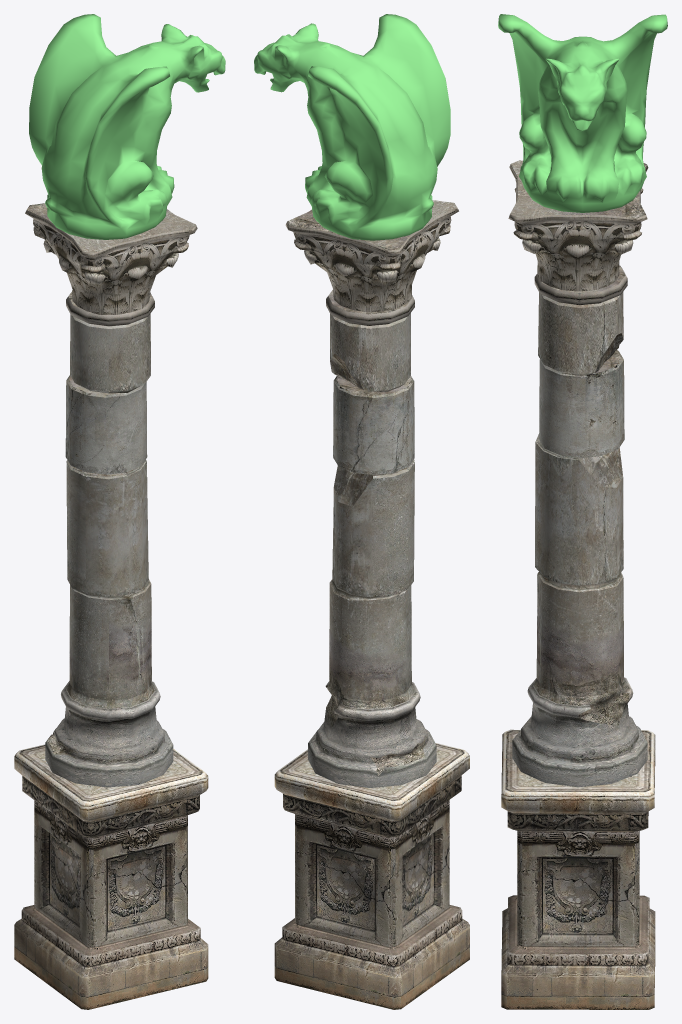
File: wall3.fbx
3 renders of one model, left to right at view 1: azimuth 30°, elevation 25°; view 2: azimuth 150°, elevation 25°; view 3: azimuth 270°, elevation 25°, orthographic. The views are drawn at different scales.
Parts seen in each view (by area): view 1: LV_Shared_Catacomb_MGActor03_PCW; view 2: LV_Shared_Catacomb_MGActor03_PCW; view 3: LV_Shared_Catacomb_MGActor03_PCW.
Part boxes in pixels (bbox=[...]): LV_Shared_Catacomb_MGActor03_PCW: bbox=[14, 14, 225, 1009]; LV_Shared_Catacomb_MGActor03_PCW: bbox=[254, 14, 469, 1009]; LV_Shared_Catacomb_MGActor03_PCW: bbox=[498, 14, 667, 1009].
Bounding box in the file's own units: 0.7105 × 3.49 × 0.5561.
